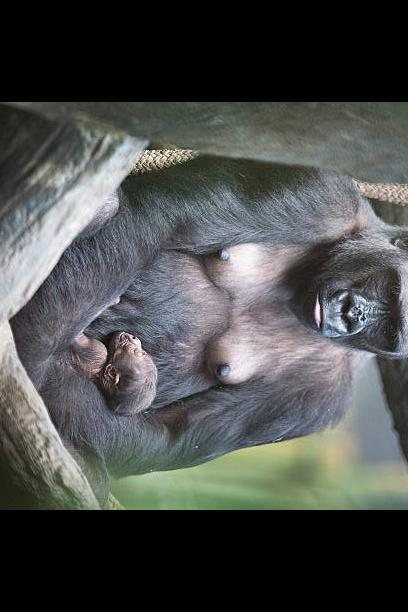gorille_Autres: (171, 160, 408, 469)
